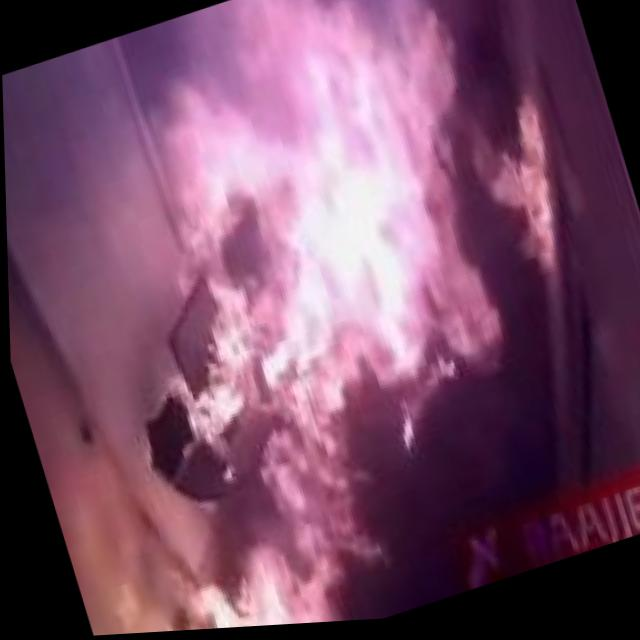fire: (64, 0, 566, 554), (113, 500, 398, 635), (456, 80, 599, 306)
